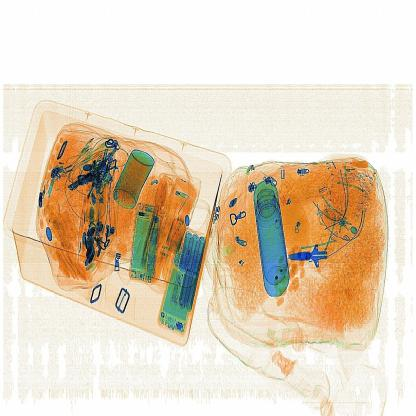gun: (286, 232, 342, 282)
